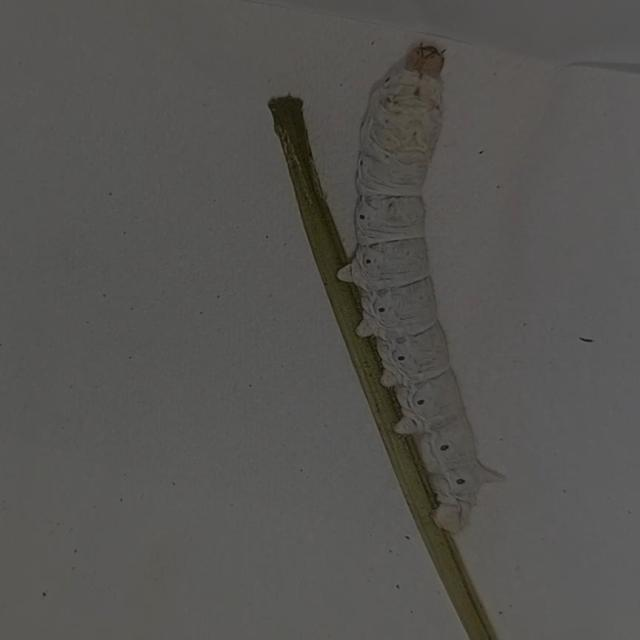Healthy: (321, 32, 511, 543)
